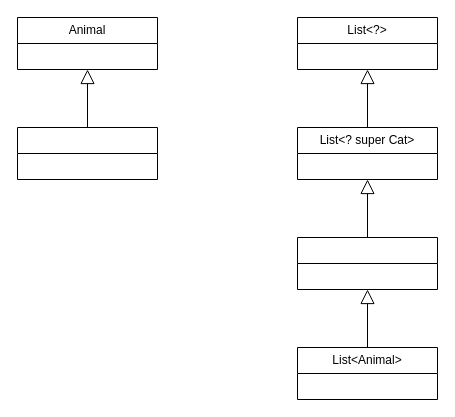
The diagram is 455 pixels wide and 417 high, and some of its shapes have lost their labels. The shapes that lost their labels are listed below. From the top down, each one's box as (x1, y1, x2, y2) in pixels, then its label:
(16, 126, 158, 180): Cat
(296, 236, 438, 290): List<? super Animal>
